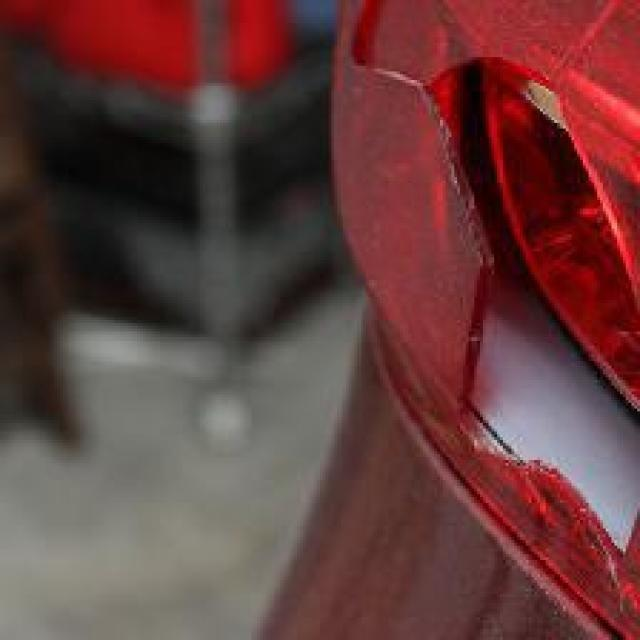damaged: (362, 54, 638, 577)
